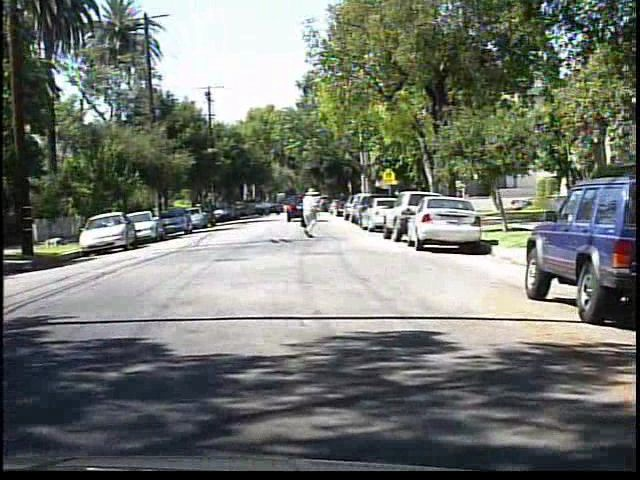person: (296, 187, 326, 241)
